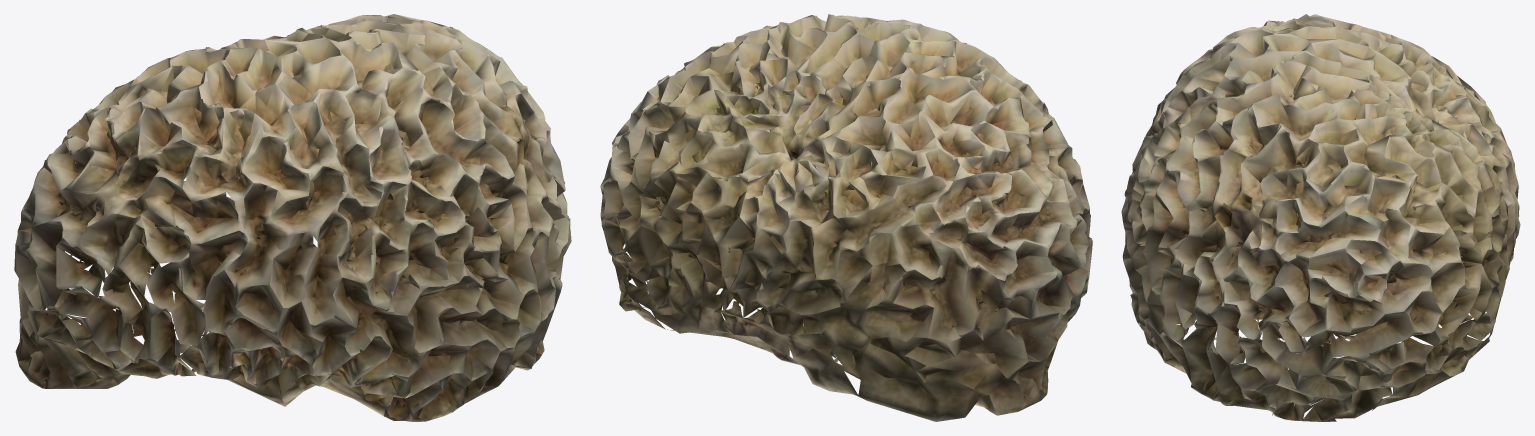
The model's file is goniastrea_coral.glb.
3 renders of one model, left to right at view 1: azimuth 30°, elevation 25°; view 2: azimuth 150°, elevation 25°; view 3: azimuth 270°, elevation 25°, orthographic. The views are drawn at different scales.
Parts seen in each view (by area): view 1: Object_4, Object_5; view 2: Object_4, Object_5; view 3: Object_4, Object_5.
Boxes of the visible parts, x1,y1,x2,y2 form: Object_4: (14,14,571,421); Object_5: (56,218,570,376); Object_4: (600,14,1092,421); Object_5: (612,202,1090,365); Object_4: (1121,14,1520,421); Object_5: (1172,240,1515,421).
Size of the model in its own units: 0.0911 by 0.059 by 0.0718.
Materials: 1 (1 with a texture image).
